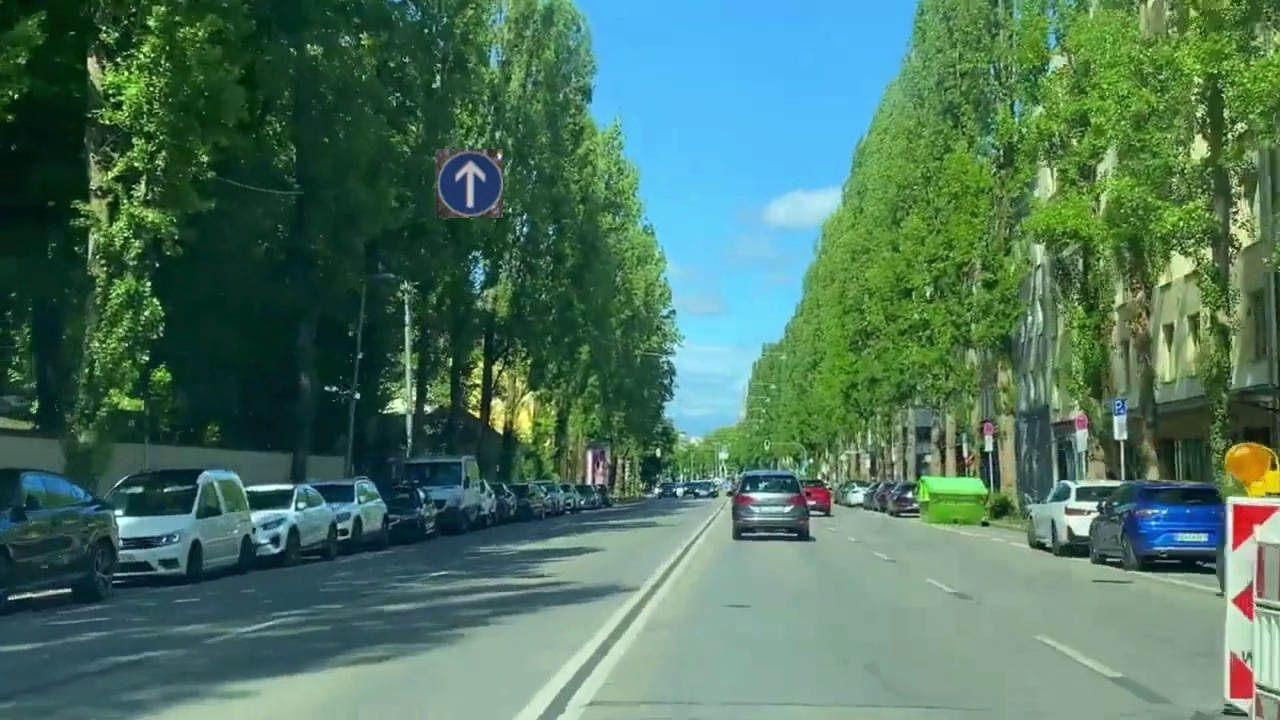Ahead only: (435, 149, 503, 218)
